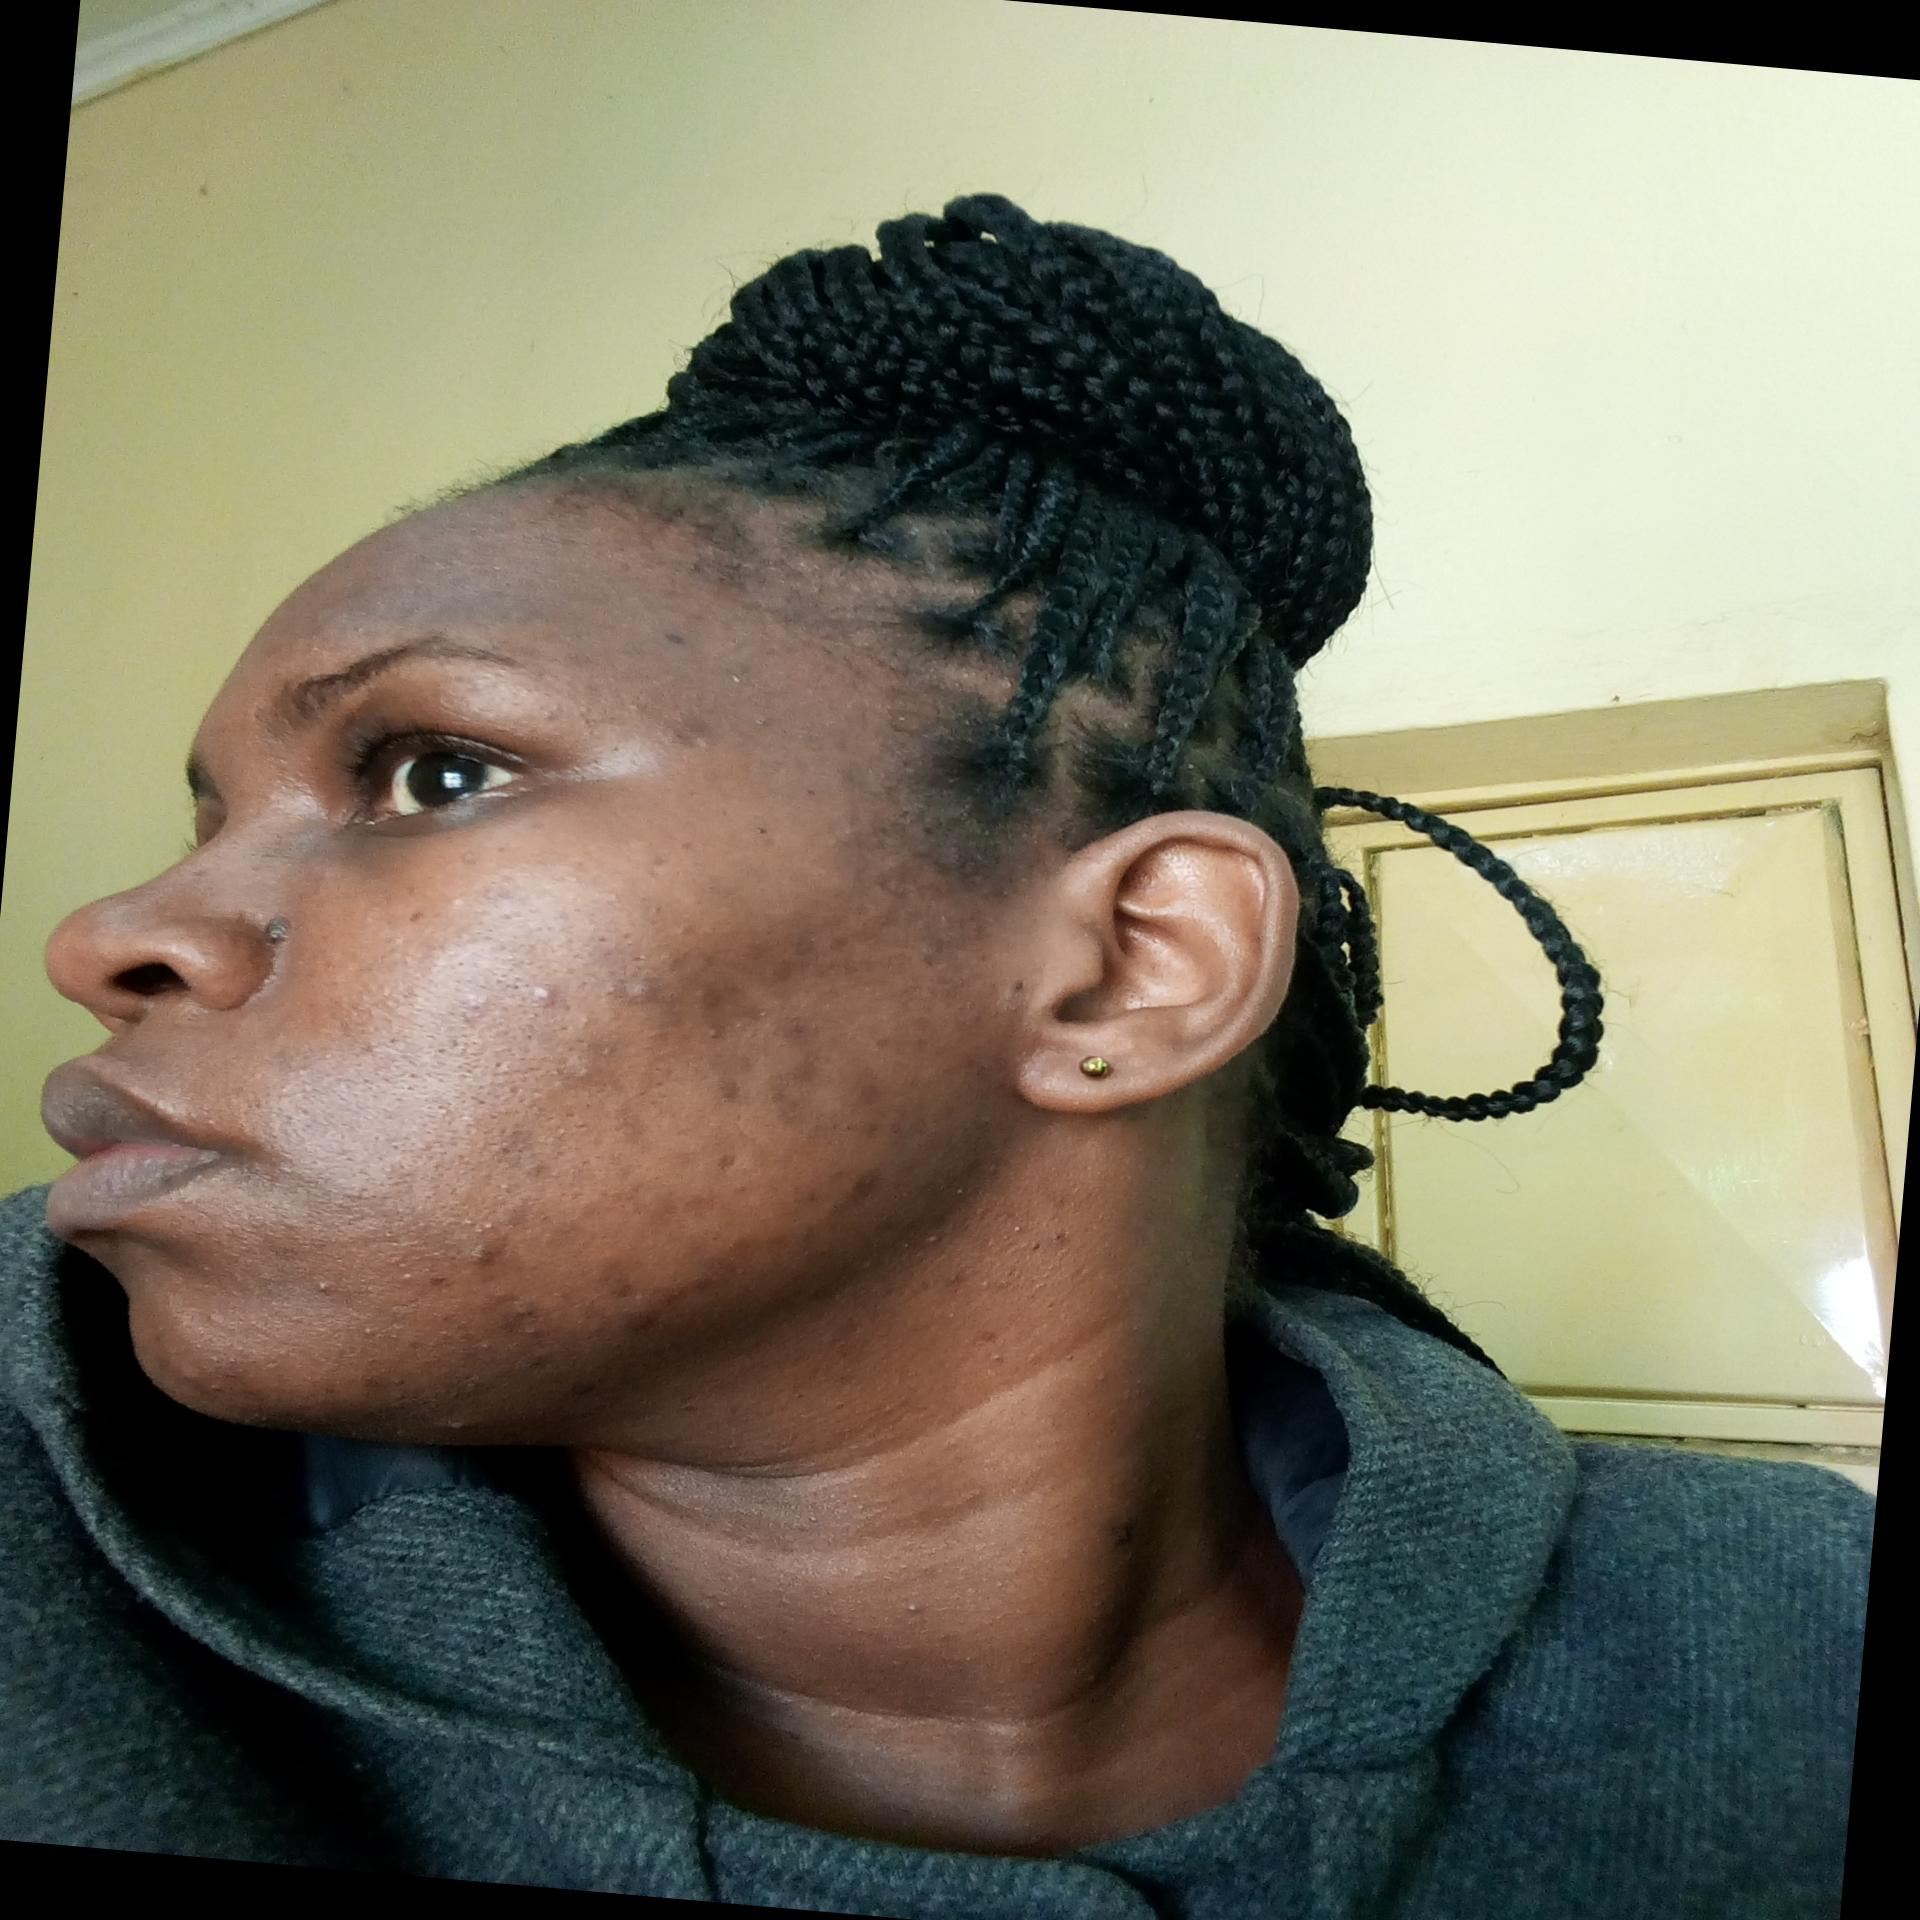Acne: (475, 1136, 640, 1261), (707, 1220, 918, 1310), (710, 1044, 895, 1132), (600, 1264, 744, 1356), (682, 944, 784, 1064), (934, 1234, 1030, 1356), (647, 710, 760, 774), (927, 913, 1013, 990), (600, 1094, 689, 1152), (863, 1102, 955, 1155), (765, 1007, 849, 1062), (491, 965, 566, 1015), (612, 969, 675, 1027), (424, 986, 515, 1025), (290, 1259, 355, 1310), (466, 1218, 512, 1282), (707, 1132, 768, 1176), (489, 1303, 554, 1343), (835, 1171, 902, 1208), (559, 1046, 608, 1088), (862, 1027, 918, 1064), (1058, 1227, 1099, 1273), (1004, 1211, 1051, 1243), (893, 1593, 934, 1626), (438, 1415, 476, 1438), (352, 1375, 392, 1396), (390, 1262, 418, 1287), (357, 1324, 383, 1347), (580, 1007, 598, 1037), (531, 1364, 554, 1384), (207, 1375, 220, 1398)
Dark Circles: (343, 791, 564, 858), (308, 826, 417, 888)
